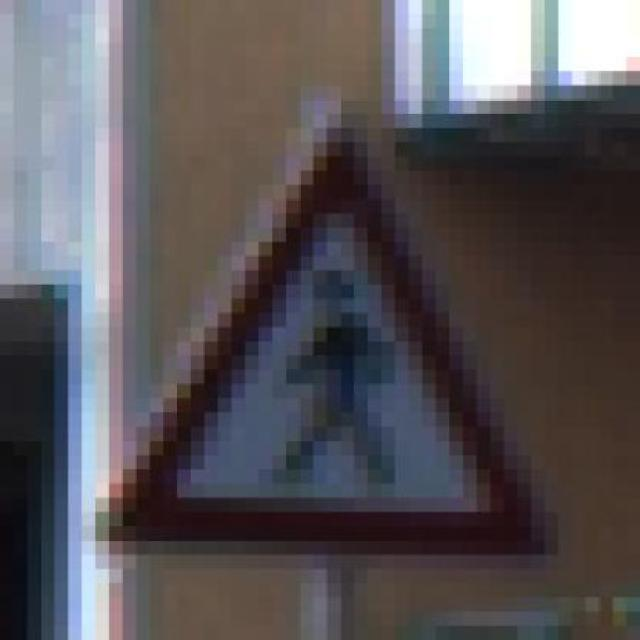Pedestrian Crossing: (68, 71, 572, 583)
